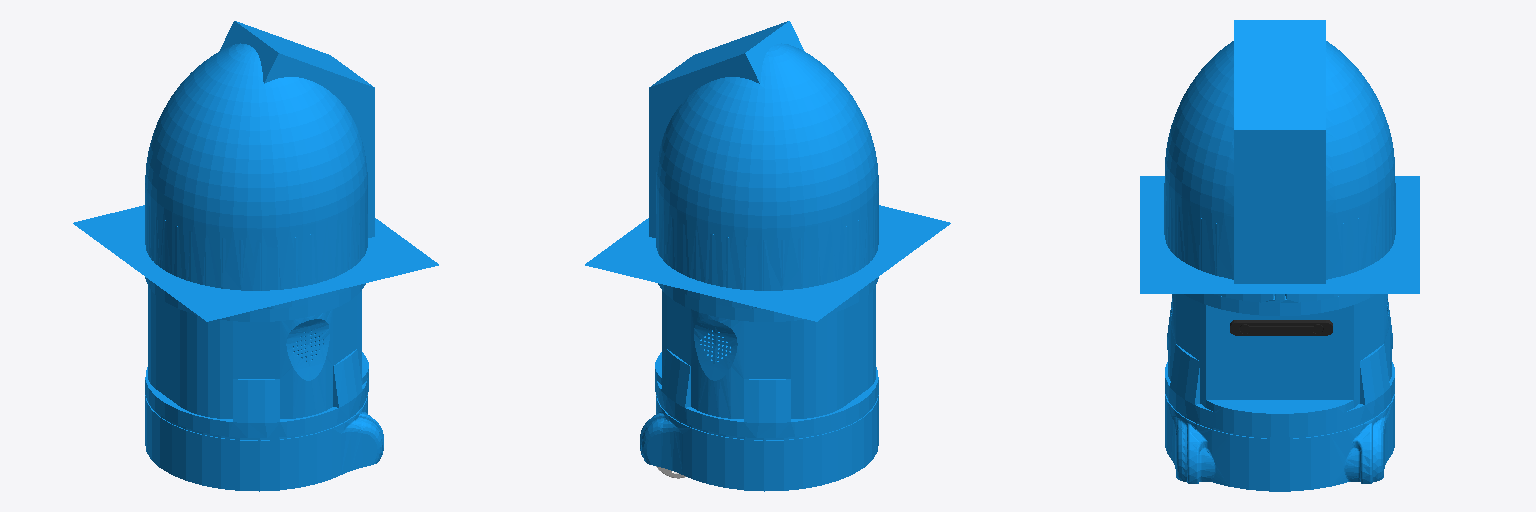
URDF robot description (water_description):
<robot
  name="water_description">
  <link
    name="base_link">
    <inertial>
      <origin
        xyz="0.000333004225212465 1.45131214129717E-05 0.234341697716168"
        rpy="0 0 0" />
      <mass
        value="80.1722695309394" />
      <inertia
        ixx="4.45627593650221"
        ixy="-0.000120784019756139"
        ixz="-0.0663886125014259"
        iyy="4.45433930232211"
        iyz="0.000402253446569656"
        izz="1.47601648850678" />
    </inertial>
    <visual>
      <origin
        xyz="0 0 0"
        rpy="0 0 0" />
      <geometry>
        <mesh
          filename="package://water_description/meshes/base_link.STL" />
      </geometry>
      <material
        name="">
        <color
          rgba="0.117647058823529 0.658823529411765 1 1" />
      </material>
    </visual>
    <collision>
      <origin
        xyz="0 0 0"
        rpy="0 0 0" />
      <geometry>
        <mesh
          filename="package://water_description/meshes/base_link.STL" />
      </geometry>
    </collision>
  </link>
  <link
    name="right_wheel_link">
    <inertial>
      <origin
        xyz="0 0 0"
        rpy="0 0 0" />
      <mass
        value="0.214252405507579" />
      <inertia
        ixx="0.000179109395198057"
        ixy="-1.75373762792168E-11"
        ixz="-1.0028090968596E-13"
        iyy="0.000301767221051853"
        iyz="6.65719731111029E-14"
        izz="0.000179081236452865" />
    </inertial>
    <visual>
      <origin
        xyz="0 0 0"
        rpy="0 0 0" />
      <geometry>
        <mesh
          filename="package://water_description/meshes/right_wheel_Link.STL" />
      </geometry>
      <material
        name="">
        <color
          rgba="1 1 1 1" />
      </material>
    </visual>
    <collision>
      <origin
        xyz="0 0 0"
        rpy="0 0 0" />
      <geometry>
        <mesh
          filename="package://water_description/meshes/right_wheel_Link.STL" />
      </geometry>
    </collision>
  </link>
  <joint
    name="right_wheel_joint"
    type="continuous">
    <origin
      xyz="0.0999999930950012 -0.147897664300856 -0.0924999999718101"
      rpy="0 0 0" />
    <parent
      link="base_link" />
    <child
      link="right_wheel_link" />
    <axis
      xyz="0 1 0" />
  </joint>
  <link
    name="left_wheel_link">
    <inertial>
      <origin
        xyz="0 0 0"
        rpy="0 0 0" />
      <mass
        value="0.214252405612172" />
      <inertia
        ixx="0.000179109395223178"
        ixy="1.74518243681799E-11"
        ixz="3.57851017118224E-14"
        iyy="0.000301767221213604"
        iyz="7.92722659520696E-14"
        izz="0.000179081236639626" />
    </inertial>
    <visual>
      <origin
        xyz="0 0 0"
        rpy="0 0 0" />
      <geometry>
        <mesh
          filename="package://water_description/meshes/left_wheel_Link.STL" />
      </geometry>
      <material
        name="">
        <color
          rgba="1 1 1 1" />
      </material>
    </visual>
    <collision>
      <origin
        xyz="0 0 0"
        rpy="0 0 0" />
      <geometry>
        <mesh
          filename="package://water_description/meshes/left_wheel_Link.STL" />
      </geometry>
    </collision>
  </link>
  <joint
    name="left_wheel_joint"
    type="continuous">
    <origin
      xyz="0.099999993112789 0.147897664300195 -0.0925000000306587"
      rpy="0 0 0" />
    <parent
      link="base_link" />
    <child
      link="left_wheel_link" />
    <axis
      xyz="0 1 0" />
  </joint>
  <link
    name="omni_wheel_link">
    <inertial>
      <origin
        xyz="0 6.51512757319569E-20 0"
        rpy="0 0 0" />
      <mass
        value="0.00634815361064737" />
      <inertia
        ixx="3.35342847845056E-07"
        ixy="-2.04764363484238E-18"
        ixz="2.08969324119687E-21"
        iyy="4.93529263557337E-07"
        iyz="1.0919258939827E-15"
        izz="3.35312650108157E-07" />
    </inertial>
    <visual>
      <origin
        xyz="0 0 0"
        rpy="0 0 0" />
      <geometry>
        <mesh
          filename="package://water_description/meshes/omni_wheel_Link.STL" />
      </geometry>
      <material
        name="">
        <color
          rgba="1 0.807843137254902 0.458823529411765 1" />
      </material>
    </visual>
    <collision>
      <origin
        xyz="0 0 0"
        rpy="0 0 0" />
      <geometry>
        <mesh
          filename="package://water_description/meshes/omni_wheel_Link.STL" />
      </geometry>
    </collision>
  </link>
  <joint
    name="omni_wheel_joint"
    type="fixed">
    <origin
      xyz="-0.160000004749928 0 -0.130000000008903"
      rpy="0 0 0" />
    <parent
      link="base_link" />
    <child
      link="omni_wheel_link" />
    <axis
      xyz="0 0 0" />
  </joint>
  <link
    name="camera_link">
    <inertial>
      <origin
        xyz="1.3878E-17 1.1102E-16 -0.00026767"
        rpy="0 0 0" />
      <mass
        value="0.154" />
      <inertia
        ixx="2.4237E-05"
        ixy="-9.6537E-22"
        ixz="-8.3256E-21"
        iyy="0.00041068"
        iyz="-2.6916E-22"
        izz="0.00040212" />
    </inertial>
    <visual>
      <origin
        xyz="0 0 0"
        rpy="1.5708 0 1.5708" />
      <geometry>
        <mesh
          filename="package://water_description/meshes/camera_link.stl" />
      </geometry>
      <material
        name="">
        <color
          rgba="0.2 0.2 0.2 1" />
      </material>
    </visual>
    <collision>
      <origin
        xyz="0 0 0"
        rpy="0 0 0" />
      <geometry>
        <mesh
          filename="package://water_description/meshes/camera_link.stl" />
      </geometry>
    </collision>
  </link>
  <joint
    name="camera_joint"
    type="fixed">
    <origin
      xyz="0.13946 0.0026256 0.1705"
      rpy="0 -4.482E-31 0" />
    <parent
      link="base_link" />
    <child
      link="camera_link" />
    <axis
      xyz="0 0 0" />
  </joint>
  <!--for camera sensor model -->
      <joint name="camera_depth_joint" type="fixed">
        <origin xyz="0.0 0.049 0.0" rpy="0 0 0" />
        <parent link="camera_link" />
        <child link="camera_depth_frame"/>
      </joint>
      <link name="camera_depth_frame"/>

      <joint name="camera_depth_optical_joint" type="fixed">
        <origin xyz="0 0 0" rpy="-1.5708 0.0 -1.5708" />
        <parent link="camera_depth_frame" />
        <child link="camera_depth_optical_frame"/>
      </joint>

      <link name="camera_depth_optical_frame"/>

      <joint name="camera_rgb_joint" type="fixed">
        <origin xyz="0.0 0.022 0.0" rpy="0 0 0" />
        <parent link="camera_link" />
        <child link="camera_rgb_frame"/>
      </joint>

      <link name="camera_rgb_frame"/>

      <joint name="camera_rgb_optical_joint" type="fixed">
        <origin xyz="0 0 0" rpy="-1.5708 0.0 -1.5708" />
        <parent link="camera_rgb_frame" />
        <child link="camera_rgb_optical_frame"/>
      </joint>
      <link name="camera_rgb_optical_frame"/>
</robot>

--- Facts derived from the render (not from the file) ---
The picture shows the robot from 3 angles, left to right: view 1: azimuth 30°, elevation 25°; view 2: azimuth 150°, elevation 25°; view 3: azimuth 270°, elevation 25°; orthographic projection.
Robot: water_description — 9 links, 8 joints (2 continuous, 6 fixed); root link base_link; default pose: every joint at zero.
Visible links, largest first — view 1: base_link; view 2: base_link; view 3: base_link, camera_link.
Boxes of the visible links, x1,y1,x2,y2 form: base_link: (73, 21, 438, 491); base_link: (585, 21, 950, 491); base_link: (1140, 20, 1419, 491); camera_link: (1230, 320, 1332, 335).
Size in the robot's own frame: 0.4827 by 0.4858 by 0.8295 metres.
4 mesh visuals loaded from 5 distinct referenced files (4 binary STL); not drawn: 1 (reference not matched to a file when rendering).